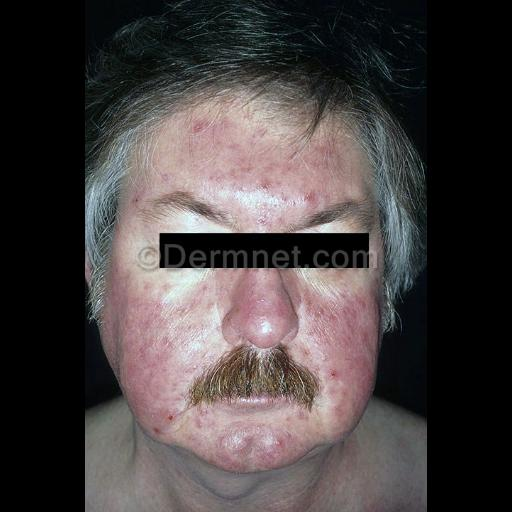Skin_Lesion: (230, 270, 266, 324), (224, 436, 302, 460), (341, 293, 363, 345), (297, 296, 331, 324), (184, 112, 212, 140), (192, 296, 224, 320), (248, 121, 270, 151), (314, 134, 336, 160), (304, 188, 328, 210), (260, 173, 278, 193), (323, 360, 339, 382), (163, 332, 177, 356), (158, 274, 170, 298), (168, 406, 174, 424)
